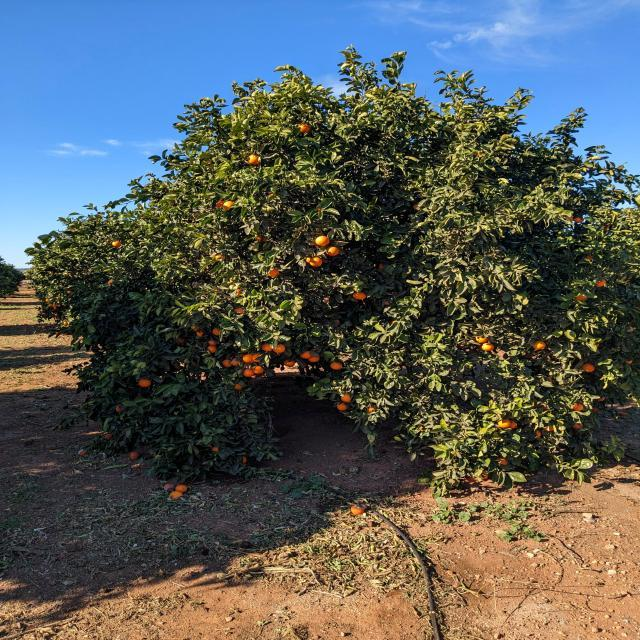Jeruk Sudah Matang: (316, 236, 330, 246), (309, 257, 323, 267), (326, 246, 339, 256), (498, 419, 511, 429), (268, 268, 280, 278), (248, 155, 260, 164), (330, 362, 343, 370), (583, 364, 596, 372), (224, 200, 234, 210), (474, 336, 488, 343), (532, 341, 546, 348), (298, 124, 310, 132), (354, 292, 366, 300), (261, 342, 273, 350), (274, 344, 286, 352), (138, 379, 150, 387), (284, 360, 296, 368), (243, 354, 254, 362), (253, 366, 264, 374), (337, 402, 348, 410), (574, 294, 588, 300), (222, 360, 232, 368), (244, 368, 254, 376), (341, 394, 351, 402), (216, 200, 225, 208), (208, 346, 218, 353), (482, 344, 492, 351), (300, 352, 311, 358), (309, 356, 320, 362), (497, 458, 508, 464), (366, 406, 377, 412), (212, 328, 220, 336), (596, 280, 606, 286), (542, 426, 554, 431), (215, 254, 225, 260), (253, 354, 260, 362), (232, 358, 240, 365), (575, 403, 583, 410), (508, 421, 516, 428), (112, 241, 121, 247), (573, 423, 583, 428), (570, 402, 577, 409), (536, 430, 542, 438), (235, 308, 244, 313), (234, 384, 242, 389), (196, 331, 204, 336), (306, 257, 312, 263)
